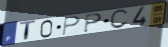0: (40, 19, 54, 39)
4: (131, 6, 148, 27)
C: (109, 8, 130, 30)
P: (61, 15, 82, 37), (83, 12, 104, 33)
T: (19, 19, 37, 42)
